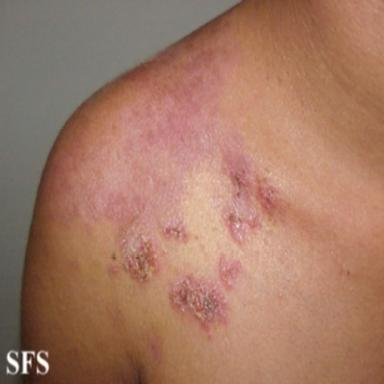Hailey-Hailey-Disease: (223, 151, 283, 244), (167, 273, 228, 339), (120, 223, 157, 282), (219, 255, 241, 288), (162, 216, 187, 241)
